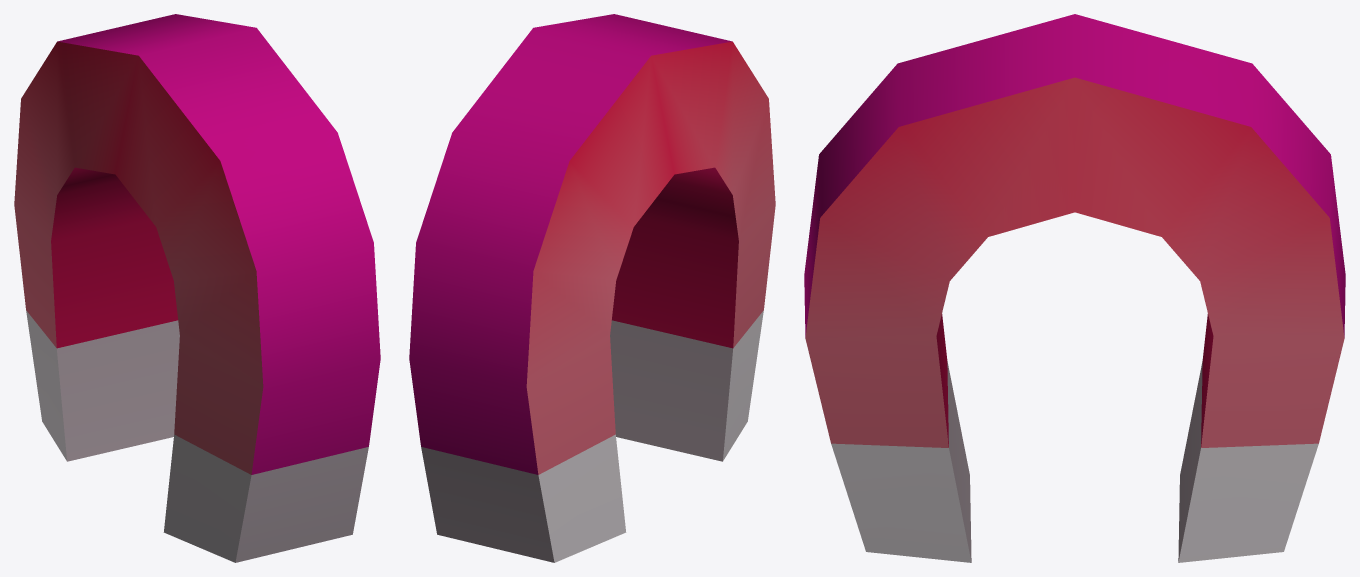
Rendered from magnet.glb.
3 renders of one model, left to right at view 1: azimuth 30°, elevation 25°; view 2: azimuth 150°, elevation 25°; view 3: azimuth 270°, elevation 25°, orthographic. The views are drawn at different scales.
Parts seen in each view (by area): view 1: magnet; view 2: magnet; view 3: magnet.
Boxes of the visible parts, x1=… form: magnet: x1=14, y1=14, x2=380, y2=562; magnet: x1=409, y1=14, x2=775, y2=562; magnet: x1=804, y1=14, x2=1345, y2=562.
Bounding box in the file's own units: 0.7889 × 2.02 × 2.09.
